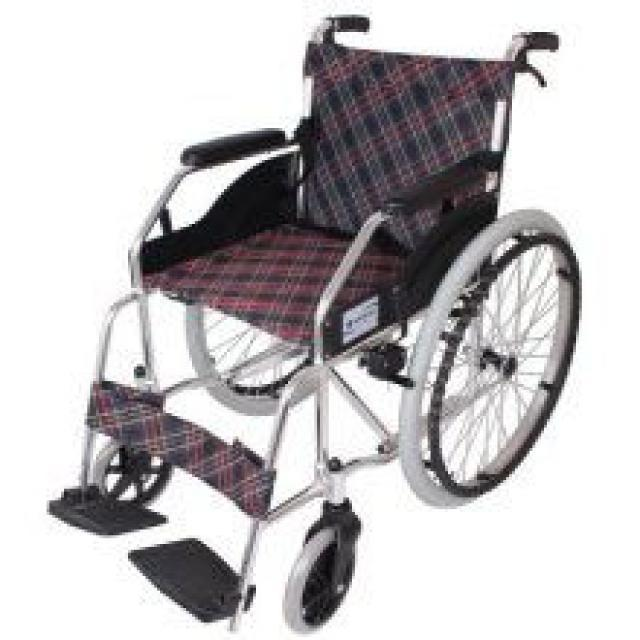wheelchair: (29, 2, 588, 634)
